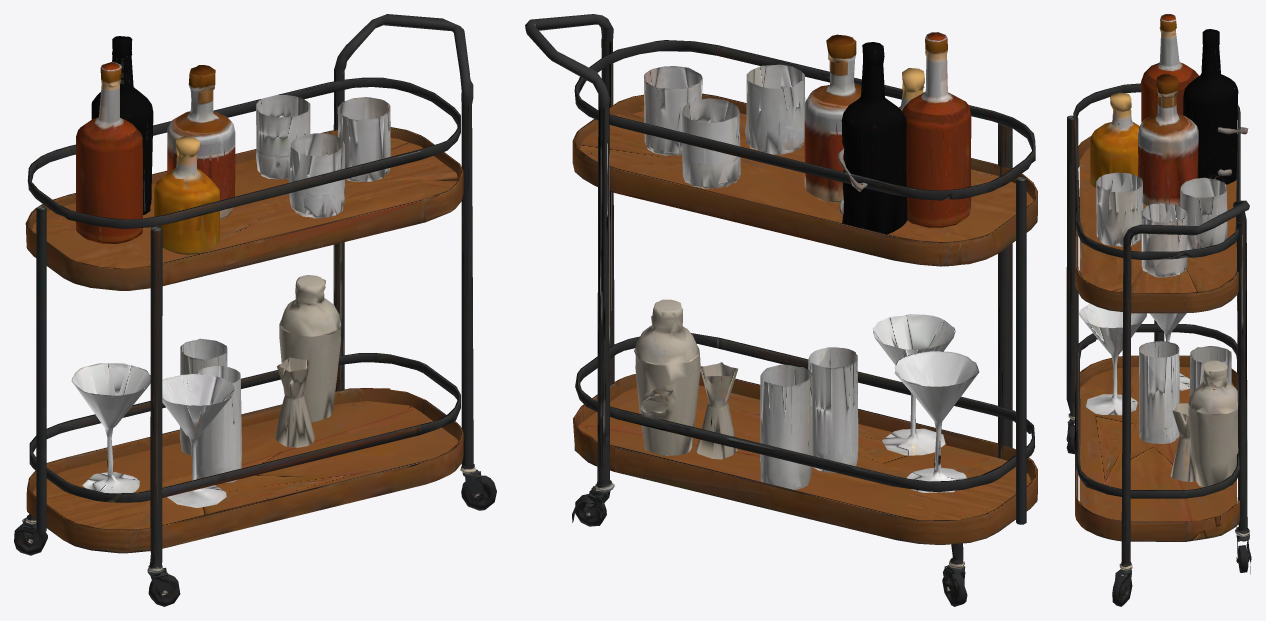
The model's file is mobile.glb.
The picture shows the model from 3 angles, left to right: view 1: azimuth 30°, elevation 25°; view 2: azimuth 150°, elevation 25°; view 3: azimuth 270°, elevation 25°; orthographic projection. The views are drawn at different scales.
Parts seen in each view (by area): view 1: barcart; view 2: barcart; view 3: barcart.
Part boxes in pixels (x1,y1,x2,y2): barcart: (14,14,496,606); barcart: (525,14,1037,606); barcart: (1066,14,1251,606).
Size of the model in its own units: 0.7499 by 0.8125 by 0.3091.
Materials: 1 (1 with a texture image).
